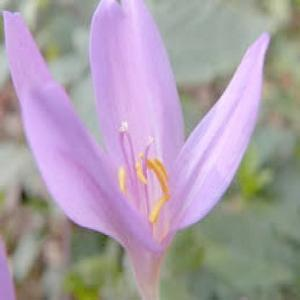Saffron: (0, 0, 269, 287)
